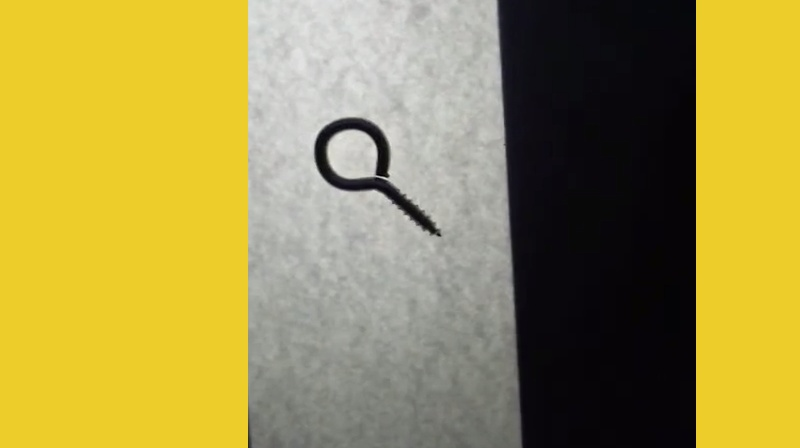O001: (311, 111, 443, 240)
